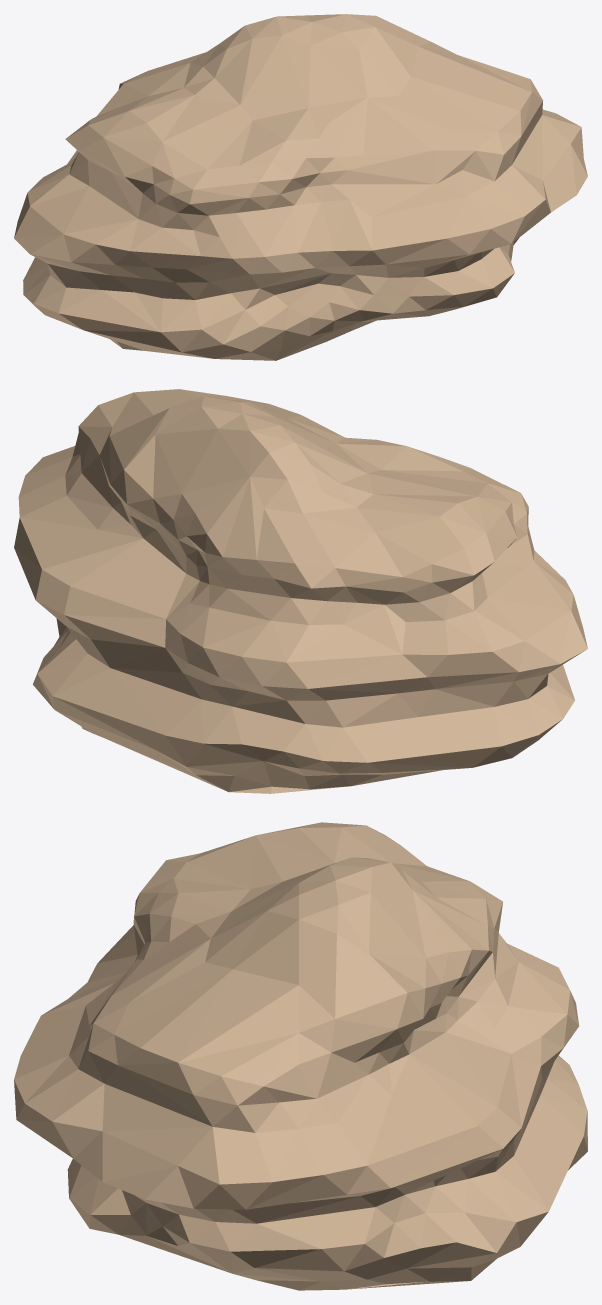
File: SM_DST_Rock_Boulder_A.fbx
3 renders of one model, top to bottom at view 1: azimuth 30°, elevation 25°; view 2: azimuth 150°, elevation 25°; view 3: azimuth 270°, elevation 25°, orthographic. The views are drawn at different scales.
Parts seen in each view (by area): view 1: SM_DST_Rock_Boulder_A; view 2: SM_DST_Rock_Boulder_A; view 3: SM_DST_Rock_Boulder_A.
Part boxes in pixels (bbox=[...]): SM_DST_Rock_Boulder_A: bbox=[14, 14, 587, 360]; SM_DST_Rock_Boulder_A: bbox=[14, 389, 587, 793]; SM_DST_Rock_Boulder_A: bbox=[14, 822, 587, 1290].
Size of the model in its own units: 2.45 by 1.2 by 1.81.
